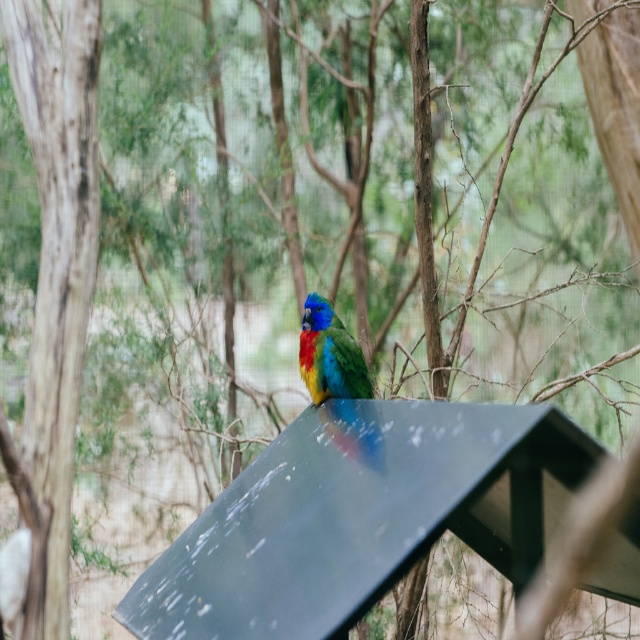Parrot: (296, 285, 373, 408)
